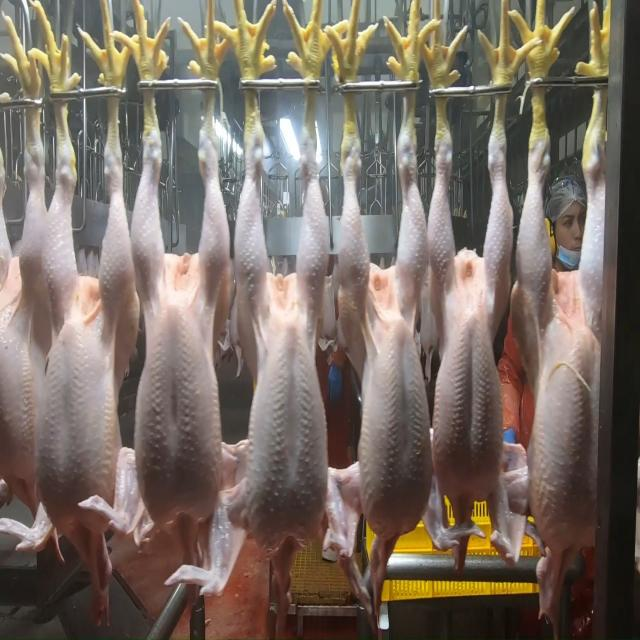chicken: (336, 126, 436, 548), (135, 112, 234, 532), (32, 103, 126, 540), (238, 124, 333, 546), (520, 119, 608, 551), (431, 136, 517, 513), (0, 135, 48, 497)
